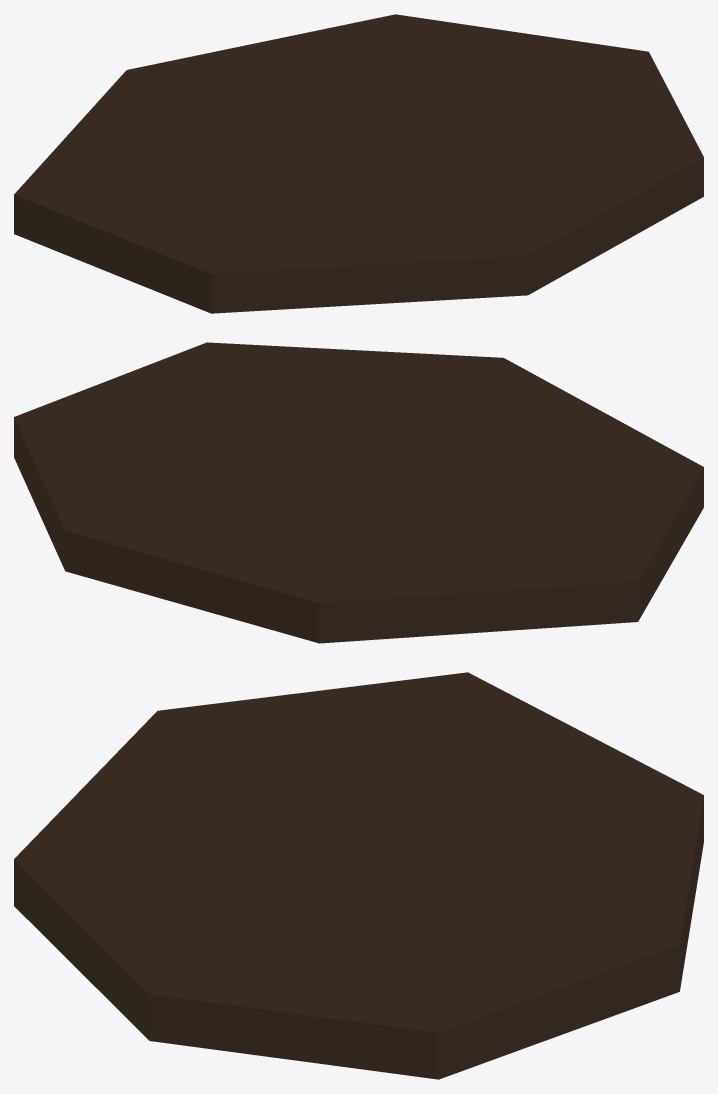
The model's file is toad-prop-crack-tile-3.glb.
The picture shows the model from 3 angles, top to bottom: view 1: azimuth 30°, elevation 25°; view 2: azimuth 150°, elevation 25°; view 3: azimuth 270°, elevation 25°; orthographic projection. The views are drawn at different scales.
Parts seen in each view (by area): view 1: tile; view 2: tile; view 3: tile.
Part boxes in pixels (bbox=[...]): tile: bbox=[14, 14, 703, 313]; tile: bbox=[14, 342, 703, 643]; tile: bbox=[14, 672, 703, 1079].
Size of the model in its own units: 0.0989 by 0.006 by 0.08.
1 material, 1 textured.
